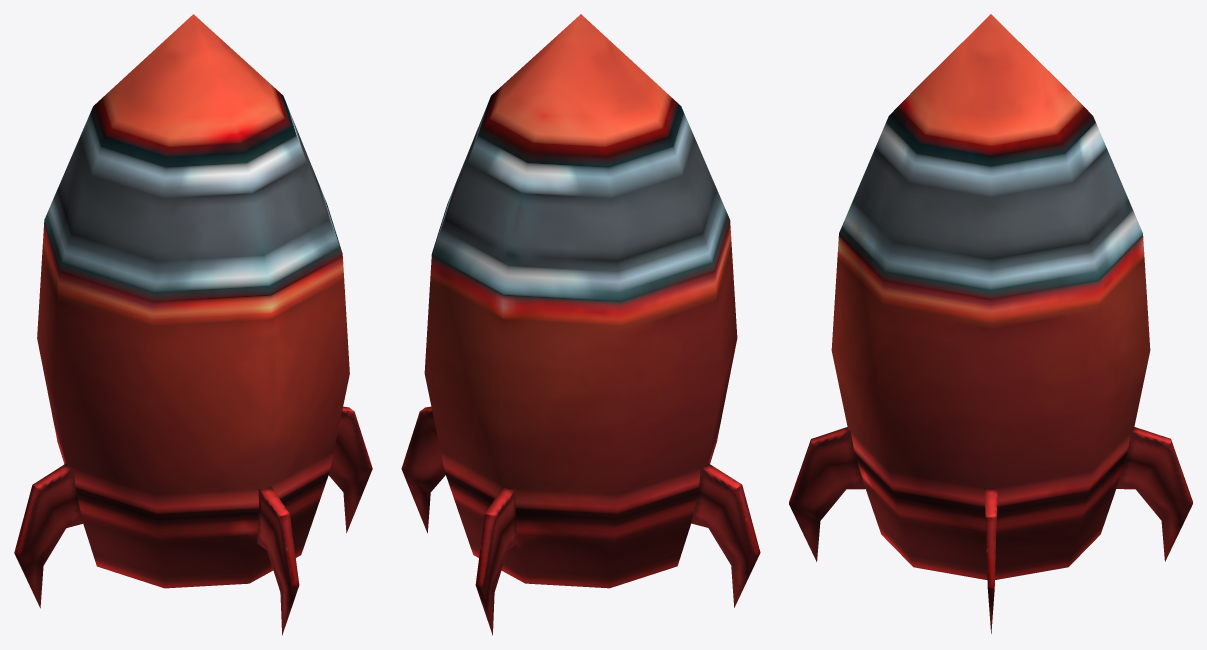
File: huojiandan.FBX
3 views of the same model, side by side, from view 1: azimuth 30°, elevation 25°; view 2: azimuth 150°, elevation 25°; view 3: azimuth 270°, elevation 25° (orthographic).
Visible parts, largest first — view 1: huojiandan; view 2: huojiandan; view 3: huojiandan.
Part boxes in pixels (x1=…): huojiandan: x1=14, y1=14, x2=372, y2=635; huojiandan: x1=401, y1=14, x2=760, y2=635; huojiandan: x1=789, y1=14, x2=1192, y2=633.
Size of the model in its own units: 105 by 158 by 105.
